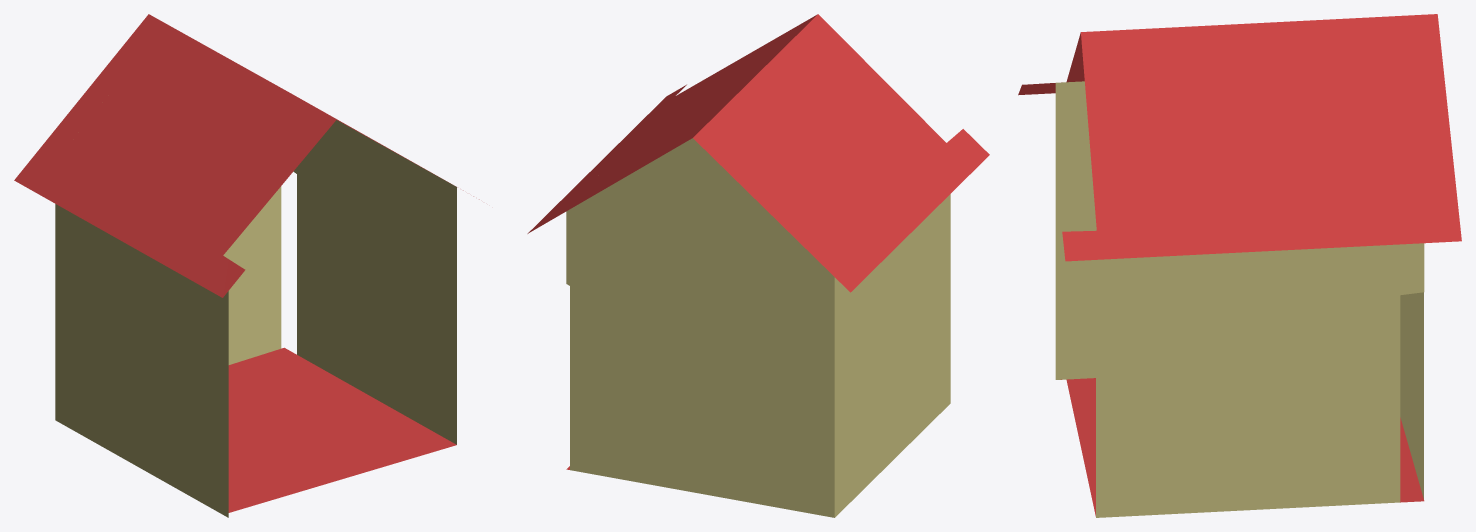
3 renders of one model, left to right at view 1: azimuth 30°, elevation 25°; view 2: azimuth 150°, elevation 25°; view 3: azimuth 270°, elevation 25°, orthographic. The views are drawn at different scales.
Size of the model in its own units: 13.07 by 13.15 by 13.55.
